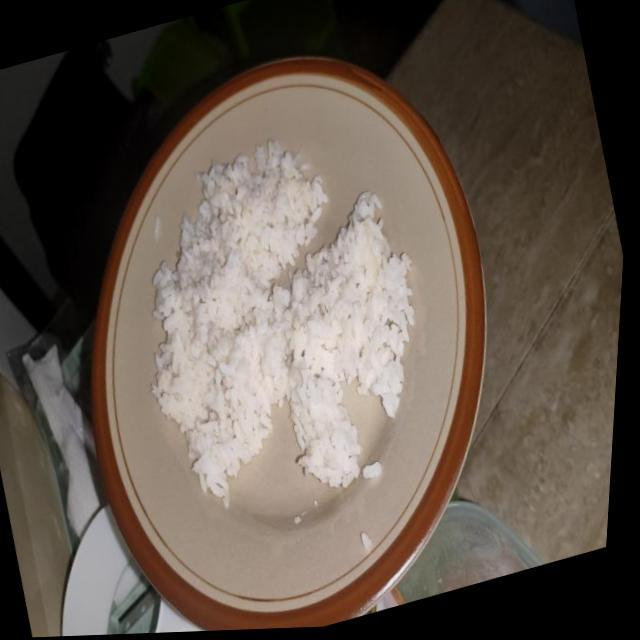nasi_putih: (151, 139, 414, 507)
